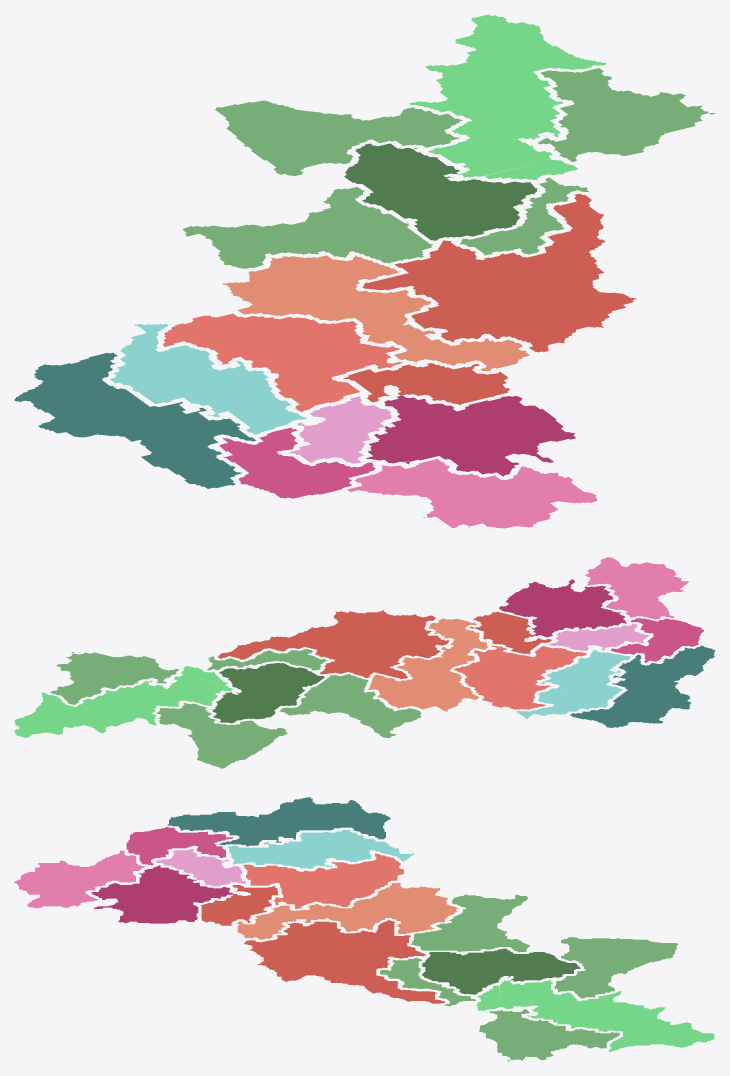
File: Map.glb
3 renders of one model, top to bottom at view 1: azimuth 30°, elevation 25°; view 2: azimuth 150°, elevation 25°; view 3: azimuth 270°, elevation 25°, orthographic. The views are drawn at different scales.
Parts seen in each view (by area): view 1: Plane.001; view 2: Plane.001; view 3: Plane.001.
Boxes of the visible parts, x1,y1,x2,y2 form: Plane.001: [14, 14, 715, 528]; Plane.001: [14, 557, 715, 768]; Plane.001: [14, 797, 714, 1061].
Bounding box in the file's own units: 1.58 × 2.22e-09 × 1.78.
